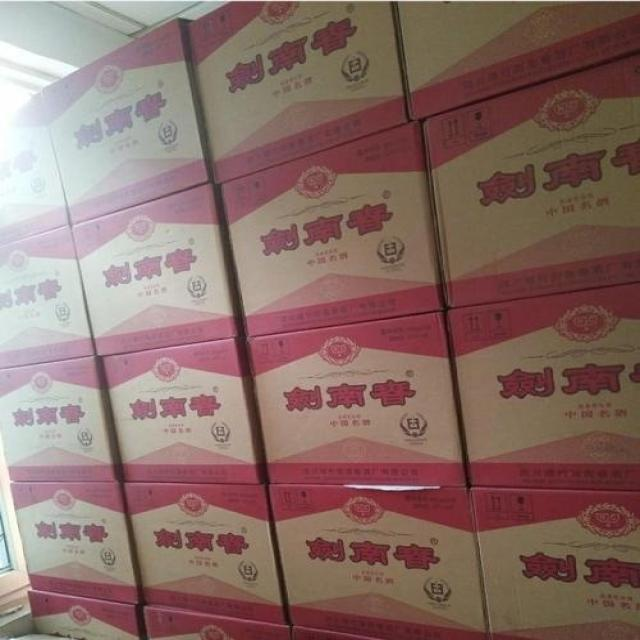box: (421, 52, 640, 311), (219, 120, 445, 337), (186, 0, 411, 184), (447, 282, 640, 491), (246, 311, 467, 486), (42, 19, 212, 226), (268, 485, 490, 640), (70, 183, 246, 357), (393, 0, 640, 119), (471, 488, 640, 640), (99, 336, 268, 484), (123, 483, 289, 624), (10, 482, 140, 604), (0, 356, 120, 482), (0, 226, 95, 368), (0, 91, 70, 246), (28, 590, 147, 640), (142, 605, 291, 640)
